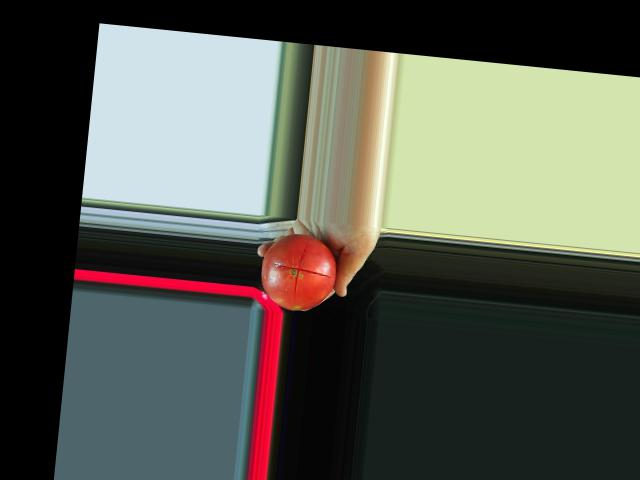tomato: (256, 229, 340, 313)
